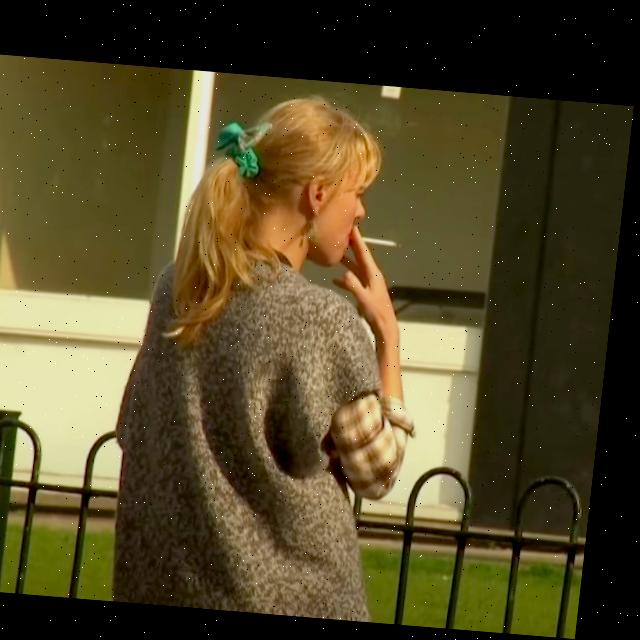cigarette: (354, 228, 408, 241)
